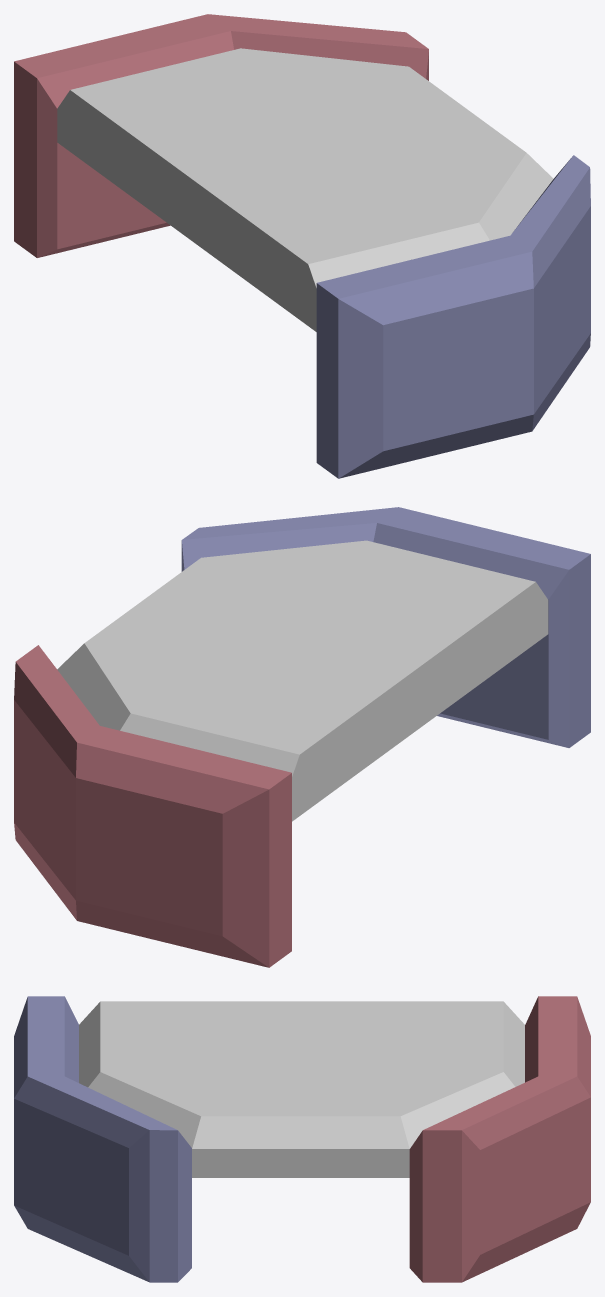
Rendered from chargestation.fbx.
3 views of the same model, one above another, from view 1: azimuth 30°, elevation 25°; view 2: azimuth 150°, elevation 25°; view 3: azimuth 270°, elevation 25° (orthographic). The views are drawn at different scales.
Visible parts, largest first — view 1: walls, plattform; view 2: walls, plattform; view 3: walls, plattform.
Part boxes in pixels (x1,y1,x2,y2): walls: [14, 14, 590, 478]; plattform: [57, 48, 553, 331]; walls: [14, 507, 590, 967]; plattform: [57, 540, 548, 821]; walls: [14, 996, 590, 1282]; plattform: [79, 1001, 524, 1177].
Size of the model in its own units: 137 by 72.59 by 249.
